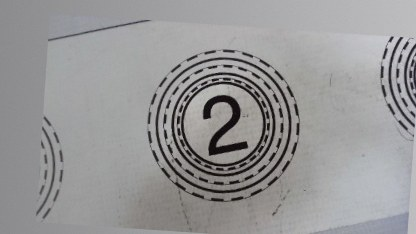2r: (140, 42, 305, 209)
